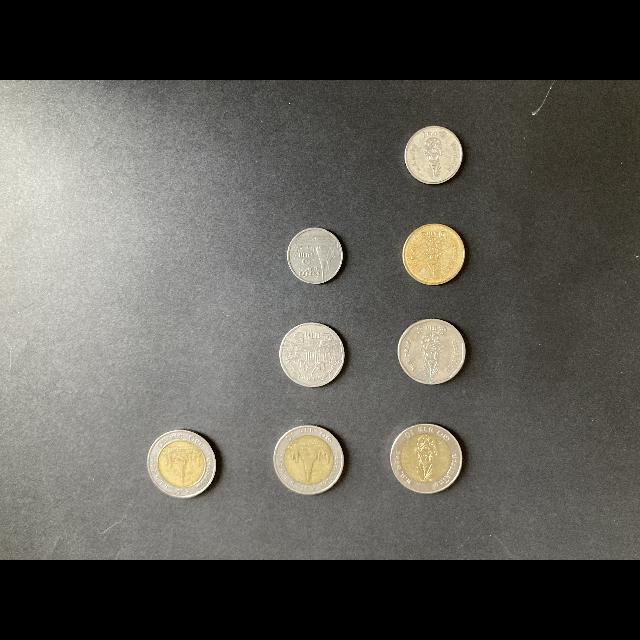1 Bath: (404, 123, 465, 187), (288, 227, 347, 289)
10 Bath: (390, 421, 467, 497), (271, 424, 347, 498), (146, 429, 220, 502)
2 Bath: (400, 223, 469, 289)
5 Bath: (399, 317, 469, 388), (279, 322, 349, 391)
